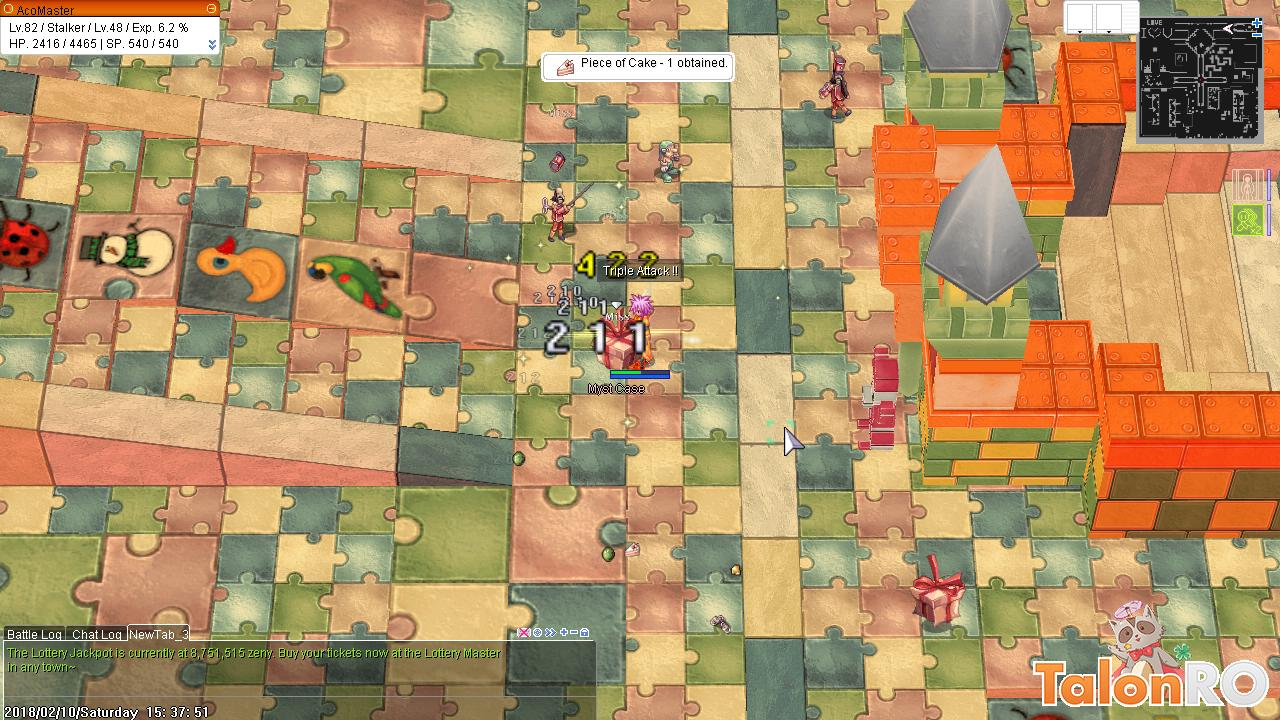loot: (705, 612, 734, 635), (507, 446, 528, 472), (623, 542, 646, 560), (598, 545, 616, 565), (727, 561, 742, 577)
mob: (539, 149, 596, 250), (815, 34, 858, 121)
myst_case: (907, 548, 969, 631), (593, 312, 628, 376)
